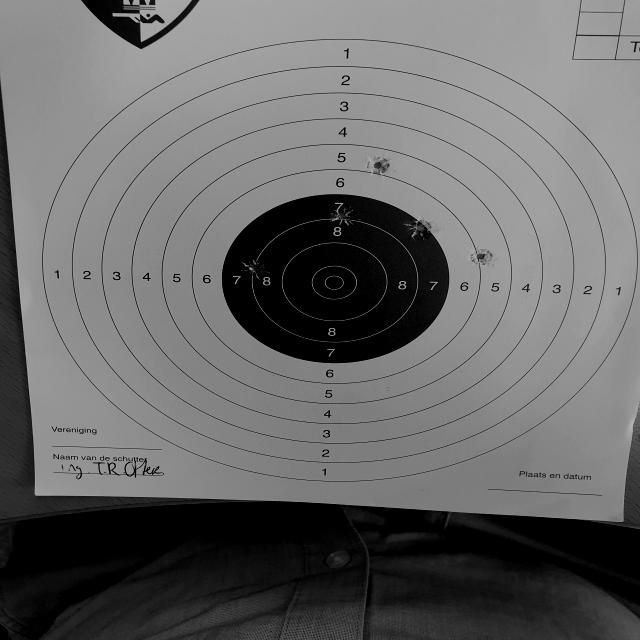6: (364, 154, 396, 178), (467, 248, 498, 268)
7: (404, 216, 438, 240)
8: (239, 258, 273, 281), (326, 207, 358, 228)
Target: (46, 38, 636, 482)
black_contour: (223, 195, 449, 364)
